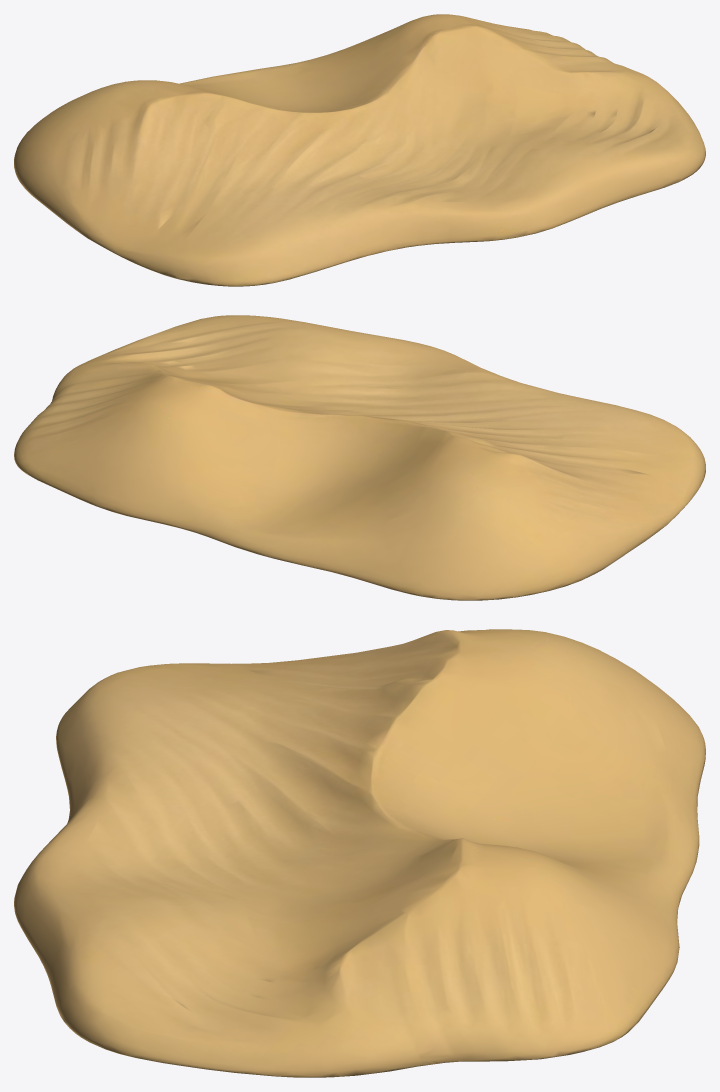
File: desert-dunes-mobile.glb
3 renders of one model, top to bottom at view 1: azimuth 30°, elevation 25°; view 2: azimuth 150°, elevation 25°; view 3: azimuth 270°, elevation 25°, orthographic. The views are drawn at different scales.
Visible parts, largest first — view 1: node_0; view 2: node_0; view 3: node_0.
Part boxes in pixels (x1,y1,x2,y2): node_0: (14,14,705,286); node_0: (14,315,705,600); node_0: (14,629,705,1077).
Bounding box in the file's own units: 1.14 × 0.1457 × 0.805.
1 material, 1 textured.
